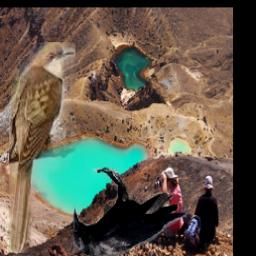Crow: (73, 168, 189, 256)
Cuckoo: (8, 42, 74, 253)
